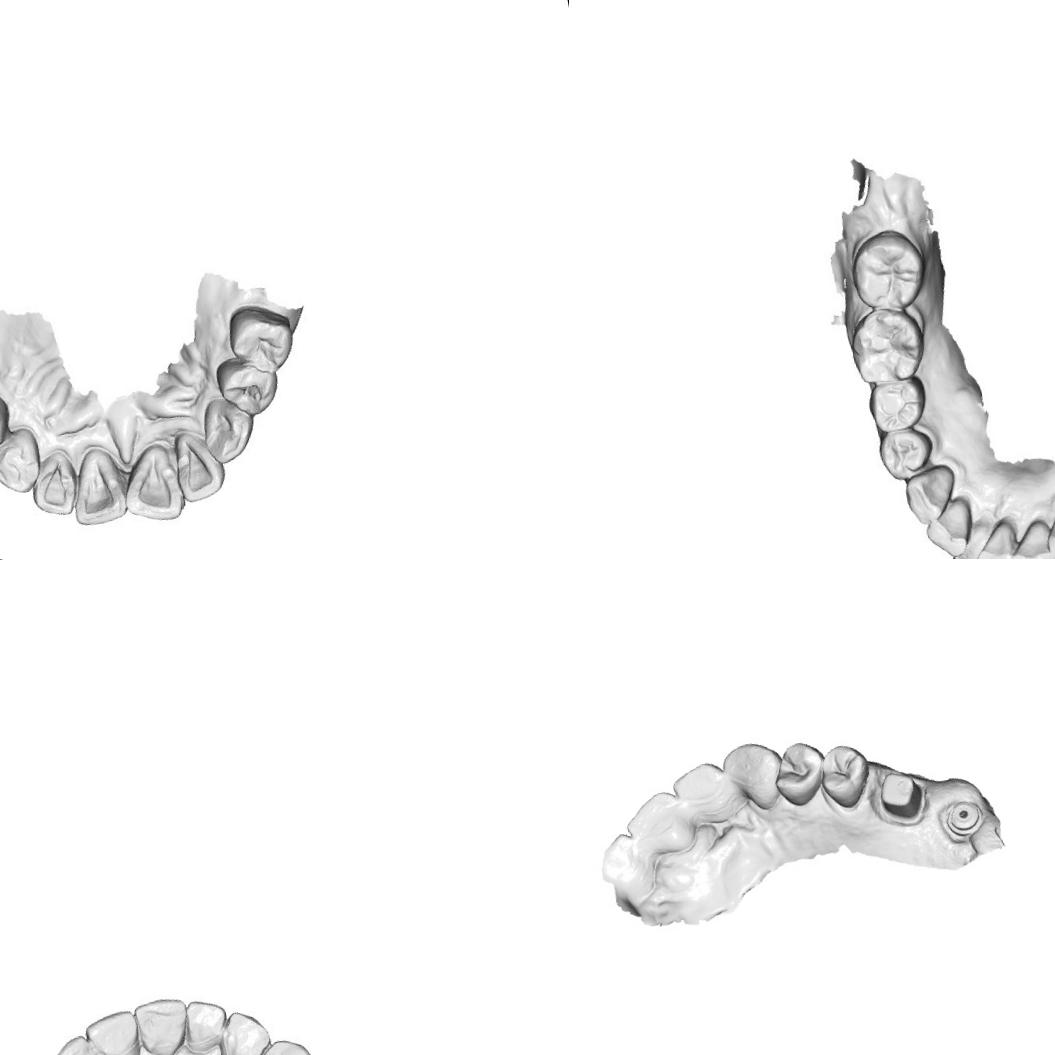abutment: (872, 765, 930, 827)
canine: (718, 736, 790, 816), (197, 392, 261, 467), (902, 463, 964, 526), (0, 424, 47, 498), (214, 1004, 279, 1055), (1040, 492, 1055, 555)
implant: (941, 795, 984, 838)
incisor: (113, 436, 190, 528), (62, 440, 130, 530), (619, 786, 697, 862), (666, 756, 734, 832), (168, 424, 230, 504), (594, 827, 661, 901), (23, 448, 82, 520), (130, 990, 191, 1055), (79, 1006, 143, 1055), (182, 994, 232, 1053), (924, 498, 973, 548), (940, 524, 999, 559), (977, 518, 1022, 559), (1011, 521, 1055, 559), (47, 1030, 109, 1055)
molar: (846, 228, 925, 313), (849, 306, 925, 384)
premolar: (221, 296, 300, 382), (212, 348, 284, 422), (766, 736, 831, 811), (814, 739, 875, 812), (873, 420, 932, 478), (867, 379, 920, 428), (243, 1033, 322, 1055), (0, 388, 16, 463)
